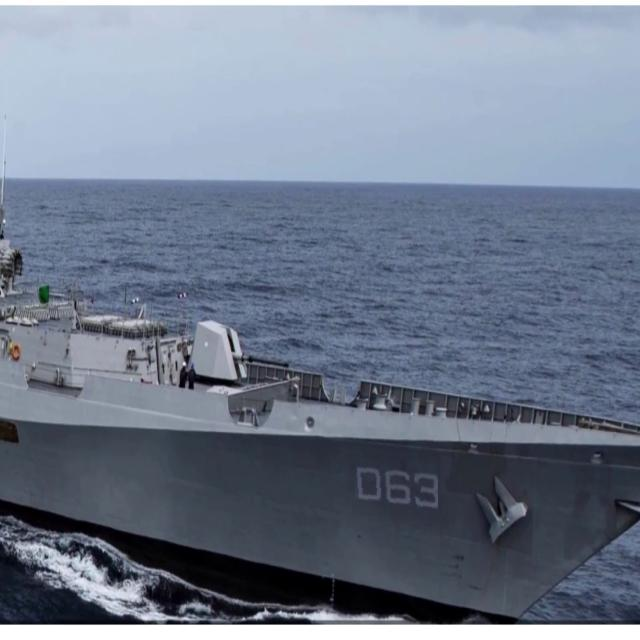OCR: (351, 460, 438, 526)
